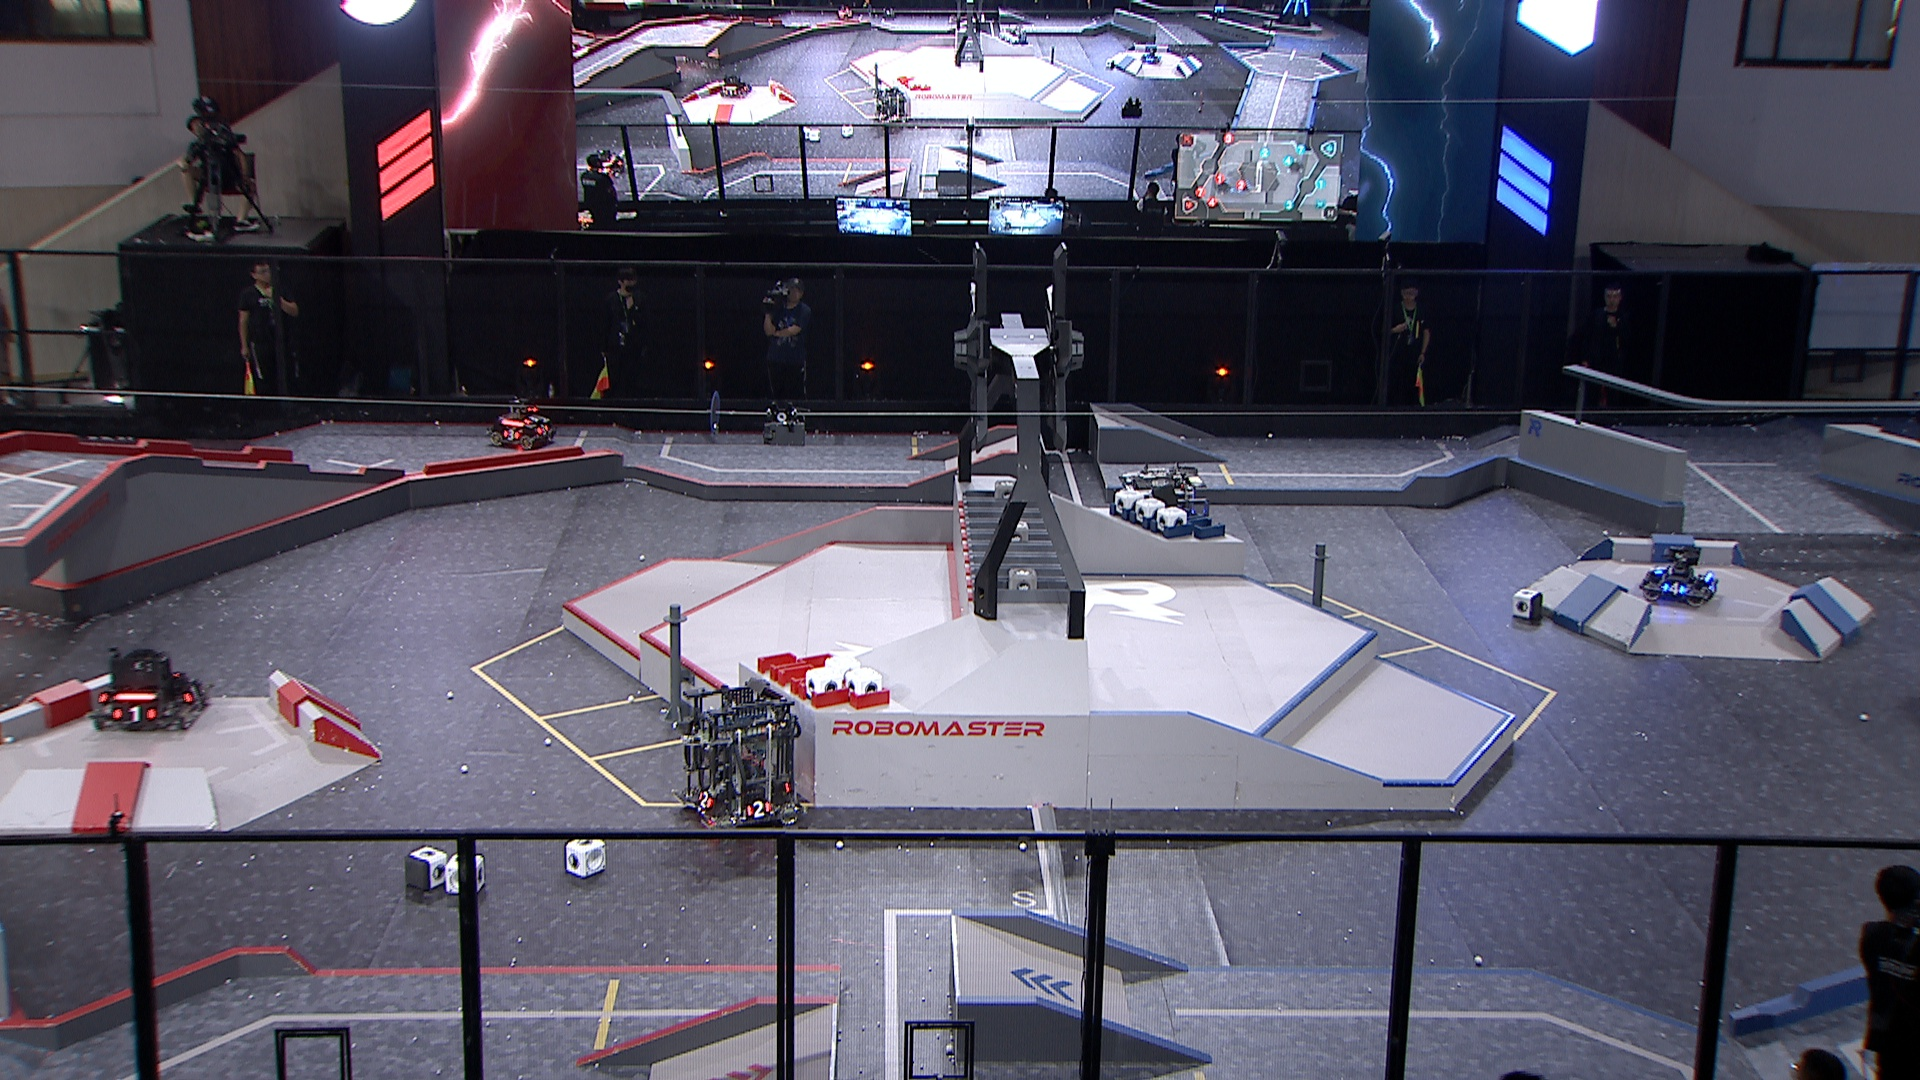armor: (109, 705, 157, 719), (744, 802, 771, 820), (694, 790, 713, 814), (182, 680, 199, 703), (1664, 582, 1688, 595), (535, 422, 550, 436), (504, 427, 520, 440), (1652, 560, 1665, 575), (1705, 579, 1721, 591), (526, 413, 539, 425)
car: (678, 678, 806, 835), (87, 641, 208, 736), (1116, 458, 1215, 560), (1636, 542, 1722, 608), (487, 396, 556, 452)
ignore: (865, 86, 916, 135), (588, 144, 622, 174), (717, 73, 752, 98), (996, 16, 1027, 41), (1138, 44, 1162, 65), (832, 3, 855, 22), (1207, 3, 1232, 18)
